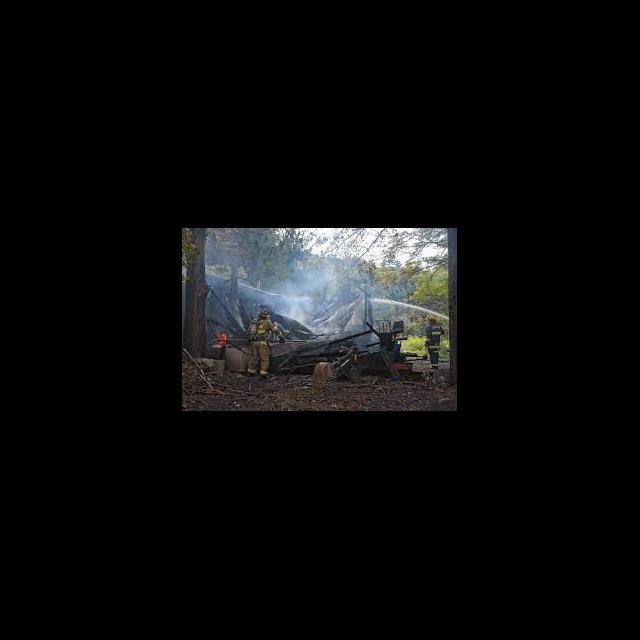Fire: (213, 331, 230, 347)
Smoke: (274, 268, 364, 328)
